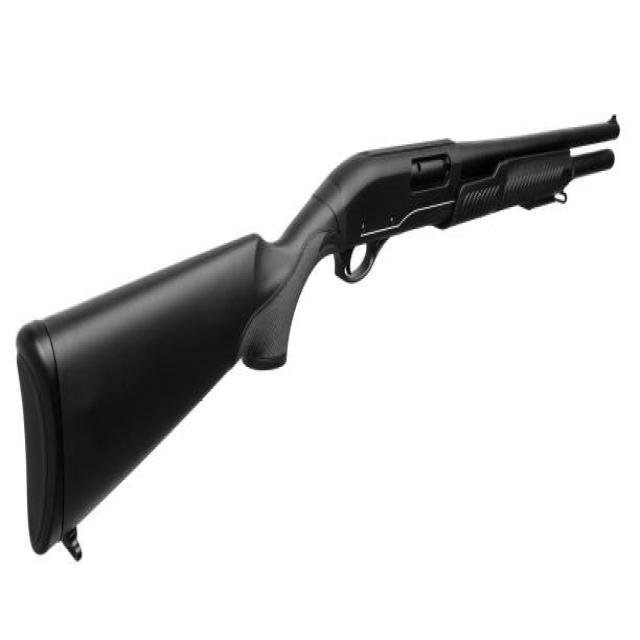rifle: (16, 100, 626, 567)
